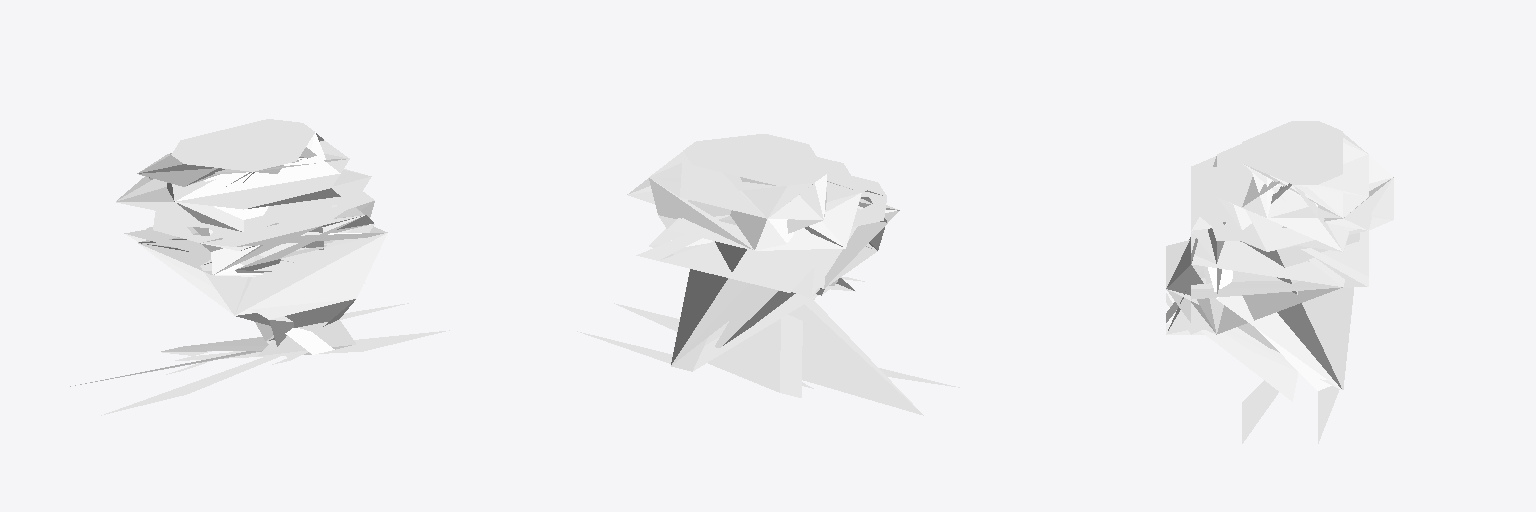
File: Zombie.obj
3 renders of one model, left to right at view 1: azimuth 30°, elevation 25°; view 2: azimuth 150°, elevation 25°; view 3: azimuth 270°, elevation 25°, orthographic.
Bounding box in the file's own units: 16 × 9 × 9.